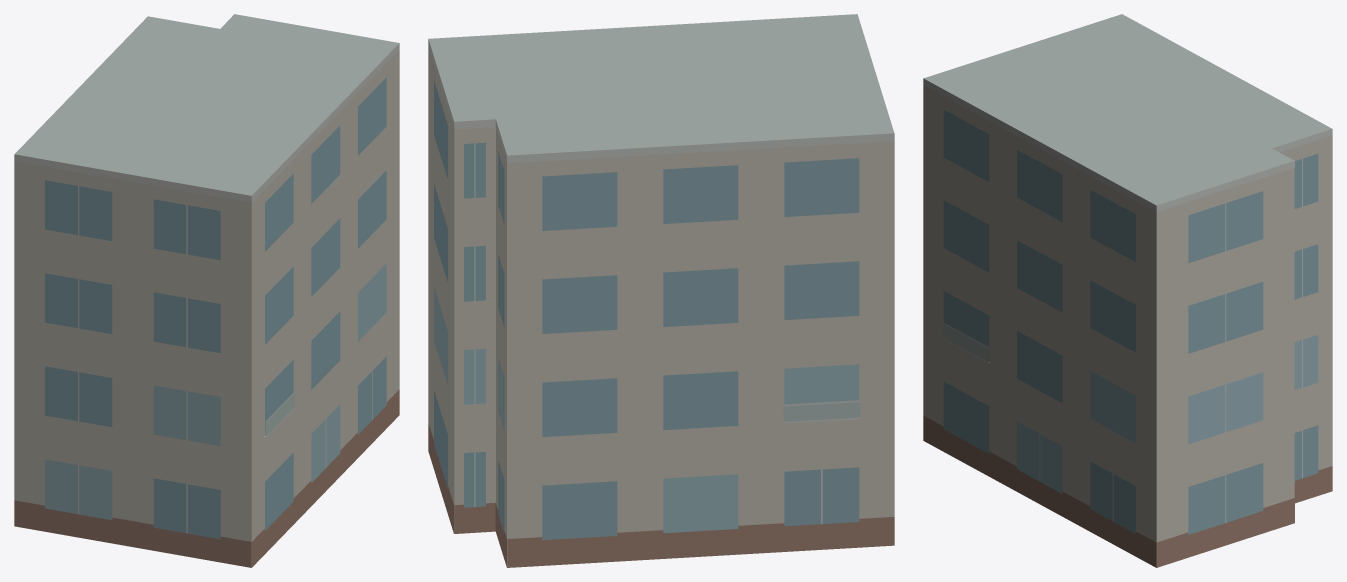
Rendered from survey-upis-32643810.glb.
3 renders of one model, left to right at view 1: azimuth 30°, elevation 25°; view 2: azimuth 150°, elevation 25°; view 3: azimuth 270°, elevation 25°, orthographic. The views are drawn at different scales.
Parts seen in each view (by area): view 1: survey-upis-32643810.tmp; view 2: survey-upis-32643810.tmp; view 3: survey-upis-32643810.tmp.
Boxes of the visible parts, x1,y1,x2,y2 form: survey-upis-32643810.tmp: [14, 14, 399, 567]; survey-upis-32643810.tmp: [428, 14, 894, 567]; survey-upis-32643810.tmp: [923, 14, 1332, 567].
Size of the model in its own units: 14.8 by 13.05 by 13.36.
